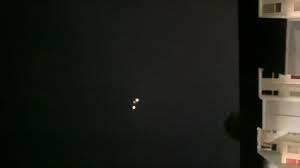Plane: (118, 88, 153, 117)
